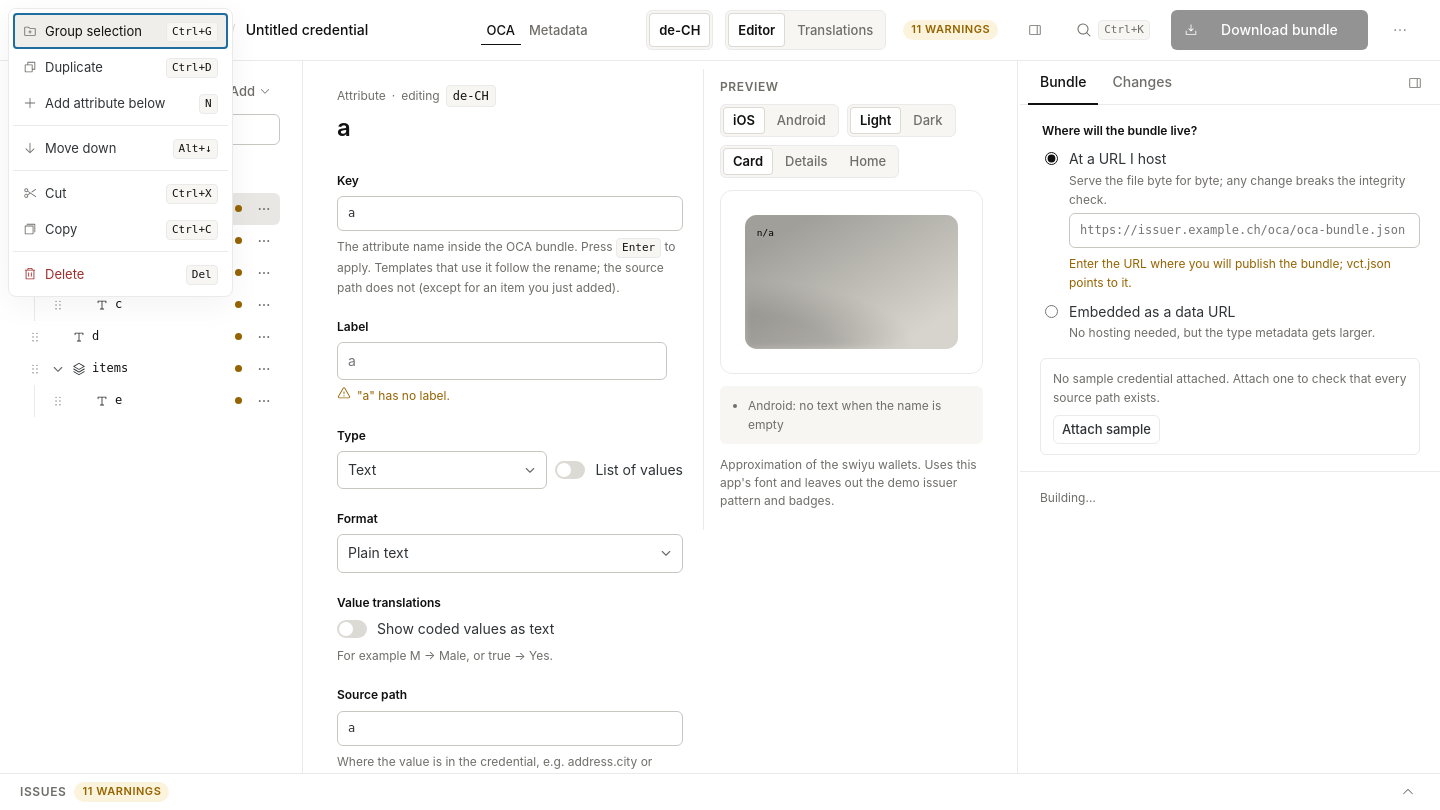
Scenario: Structure right-click menus › on an attribute: group, duplicate, add below, the moves that apply, Cut, Copy and Delete, with their shortcuts
Click the menu item "Add attribute below N": (120, 103) left=13, top=85, right=228, bottom=121
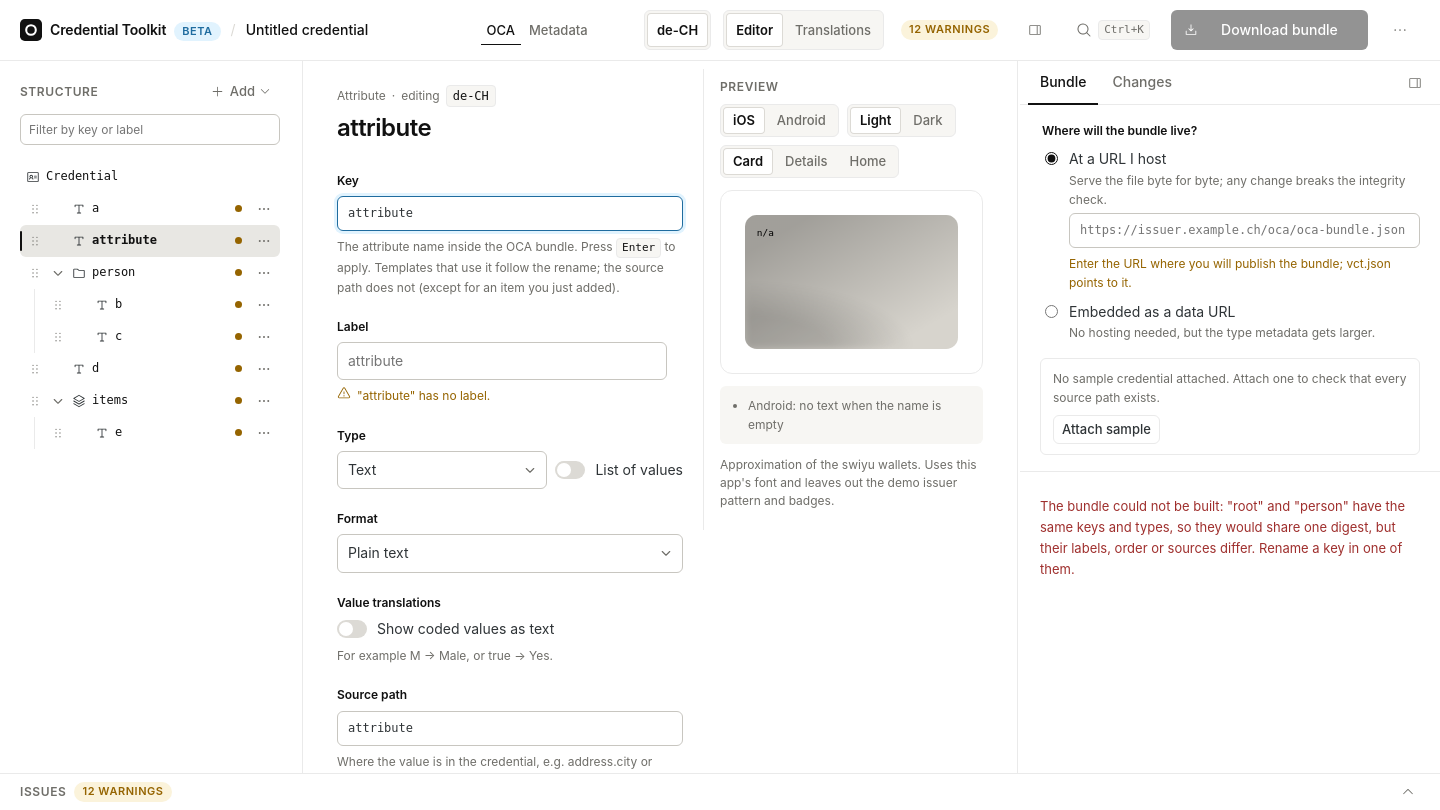
expect the menu is gone: met
